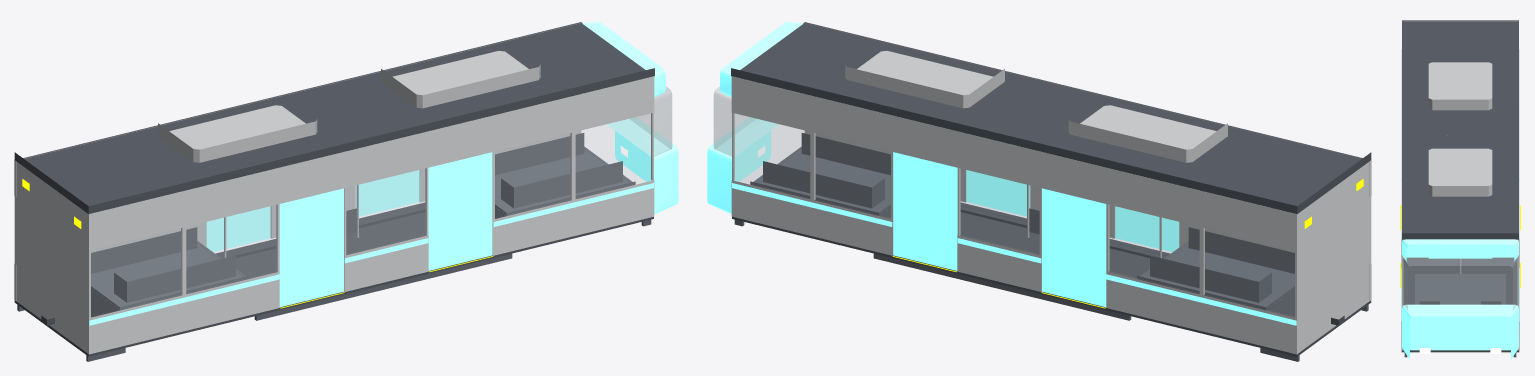
Rendered from ext_tram_car_body_01.glb.
3 views of the same model, side by side, from view 1: azimuth 30°, elevation 25°; view 2: azimuth 150°, elevation 25°; view 3: azimuth 270°, elevation 25° (orthographic). The views are drawn at different scales.
Parts seen in each view (by area): view 1: Roof, Side_Glass, Wall, Lower_Wall, Roof_Pods, End_Wall, Seats, Door_L_02, Door_L_01, Wheel_Housing, Underframe, Cab_Nose (+5 smaller); view 2: Roof, Side_Glass, Wall, Lower_Wall, Roof_Pods, End_Wall, Seats, Door_R_02, Door_R_01, Wheel_Housing, Underframe, Cab_Nose (+5 smaller); view 3: Roof, Cab_Nose, Roof_Pods, Cab_Glass, Underframe, Wheel_Housing, Seats, Wall, Destination_Screen, Livery_Stripe, Headlights, End_Wall.
Part boxes in pixels (bbox=[...]): Roof: bbox=[14, 22, 654, 213]; Side_Glass: bbox=[91, 114, 651, 316]; Wall: bbox=[14, 23, 654, 317]; Lower_Wall: bbox=[14, 130, 654, 354]; Roof_Pods: bbox=[158, 51, 540, 162]; End_Wall: bbox=[16, 161, 87, 352]; Seats: bbox=[91, 133, 622, 302]; Door_L_02: bbox=[428, 152, 492, 270]; Door_L_01: bbox=[279, 188, 343, 307]; Wheel_Housing: bbox=[91, 146, 635, 317]; Underframe: bbox=[14, 202, 653, 356]; Cab_Nose: bbox=[582, 22, 678, 213]; Roof: bbox=[731, 22, 1371, 213]; Side_Glass: bbox=[734, 114, 1294, 316]; Wall: bbox=[731, 23, 1371, 317]; Lower_Wall: bbox=[731, 130, 1371, 354]; Roof_Pods: bbox=[845, 51, 1227, 162]; End_Wall: bbox=[1298, 161, 1369, 352]; Seats: bbox=[763, 133, 1294, 302]; Door_R_02: bbox=[893, 152, 957, 270]; Door_R_01: bbox=[1042, 188, 1106, 307]; Wheel_Housing: bbox=[750, 146, 1294, 317]; Underframe: bbox=[732, 202, 1371, 356]; Cab_Nose: bbox=[707, 22, 803, 213]; Roof: bbox=[1402, 20, 1518, 239]; Cab_Nose: bbox=[1402, 239, 1518, 359]; Roof_Pods: bbox=[1428, 62, 1492, 196]; Cab_Glass: bbox=[1402, 257, 1518, 309]; Underframe: bbox=[1401, 257, 1519, 352]; Wheel_Housing: bbox=[1415, 274, 1505, 304]; Seats: bbox=[1409, 257, 1511, 304]; Wall: bbox=[1401, 49, 1519, 320]; Destination_Screen: bbox=[1428, 250, 1492, 258]; Livery_Stripe: bbox=[1401, 109, 1519, 326]; Headlights: bbox=[1419, 348, 1501, 353]; End_Wall: bbox=[1404, 21, 1516, 21].
Bounding box in the file's own units: 12.16 × 3.28 × 2.66.
